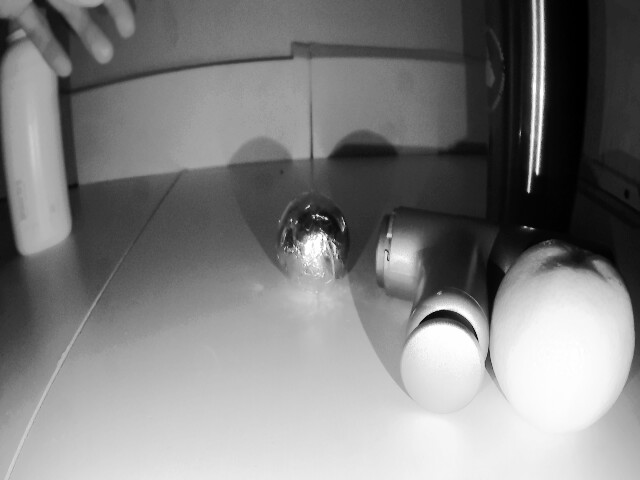black: (275, 190, 349, 288)
